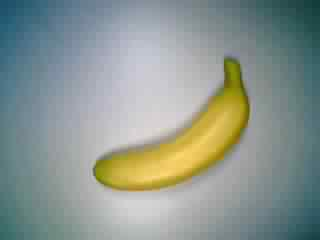banana: (86, 58, 253, 191)
